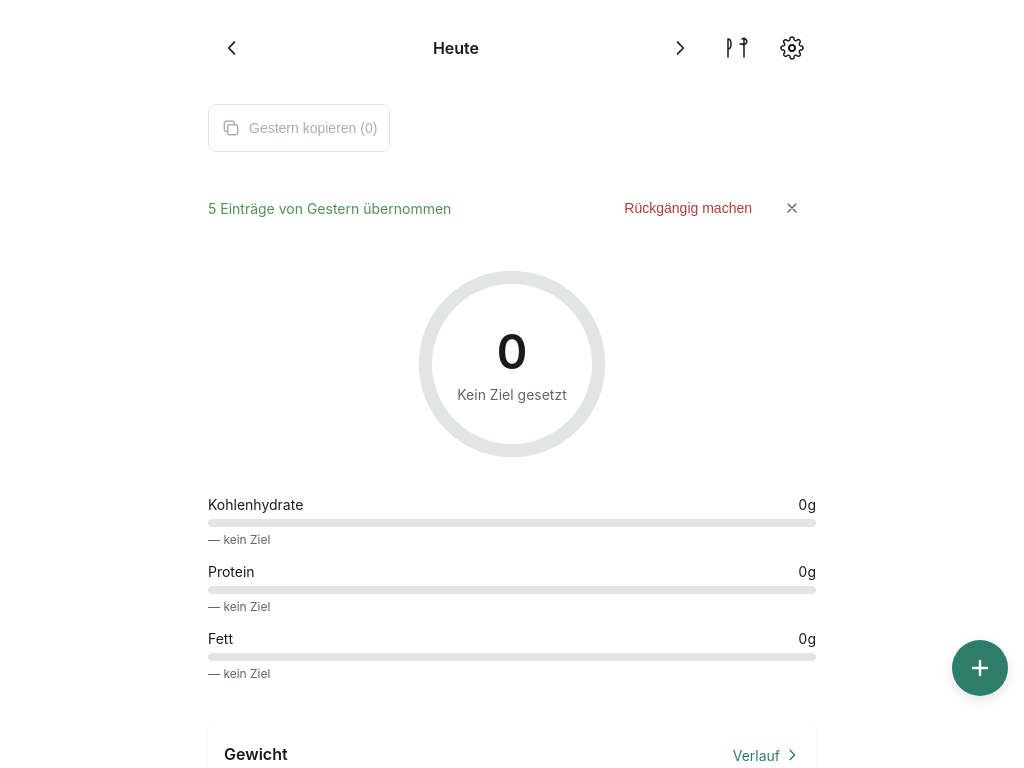
Test: DiaryShellComponent › renders the global inline feedback and opens the confirm dialog on "Rückgängig machen" (no immediate delete)
Expected: the element showing "5 Einträge von Gestern übernommen Rückgängig machen" is shown, [208,184,816,232]
Click the button with class "undo-button": (688, 208) [616,184,760,232]
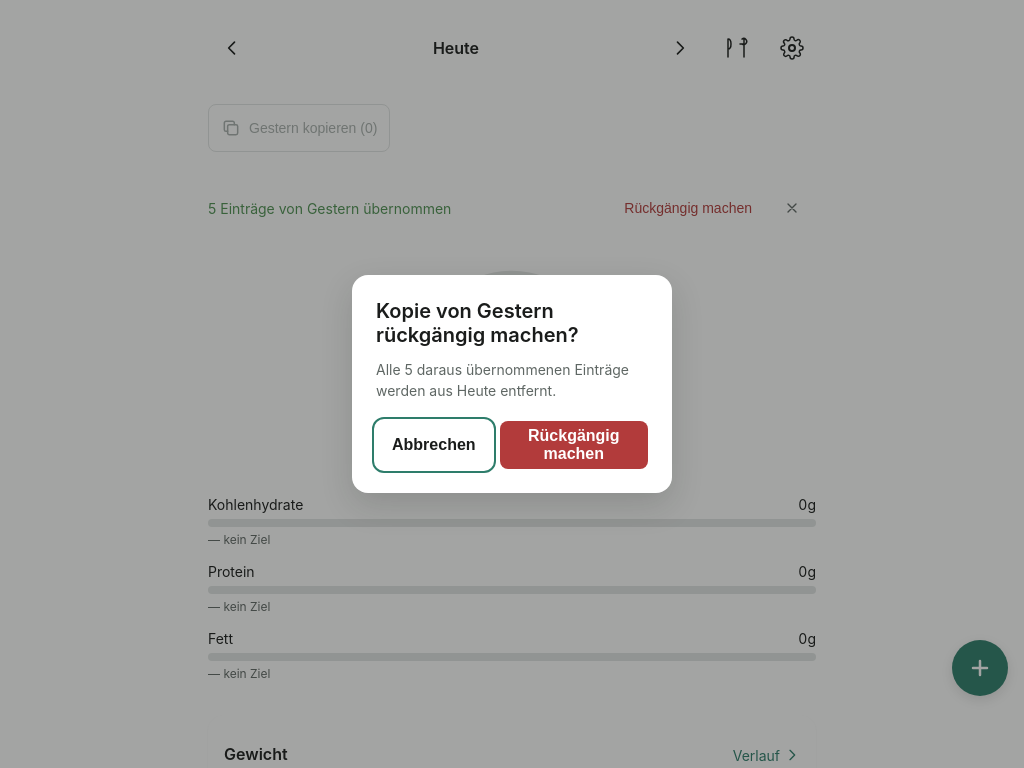
Now the element that starts with "Kopie von Gestern rückgängig machen?" is shown
Now the heading with class "dialog-title" reads "Kopie von Gestern rückgängig machen?", box [376,299,579,347]
Now the text with class "dialog-description" reads "Alle 5 daraus übernommenen Einträge werden aus Heute entfernt.", box [376,361,629,399]
